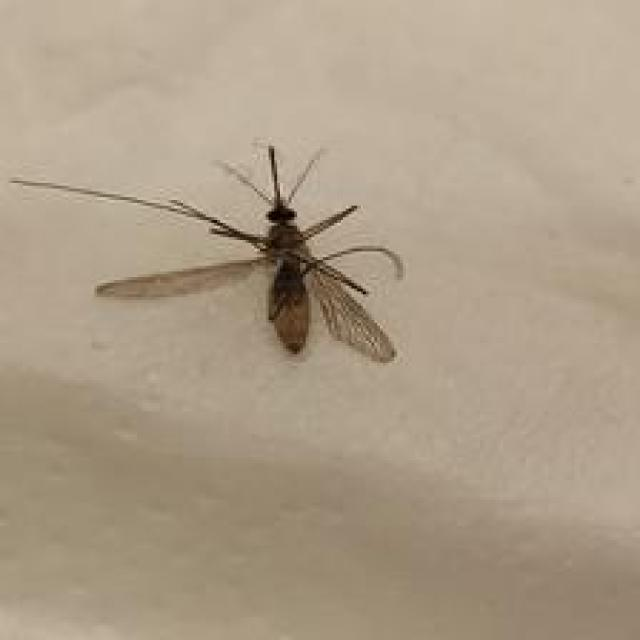Culex: (8, 140, 406, 366)
